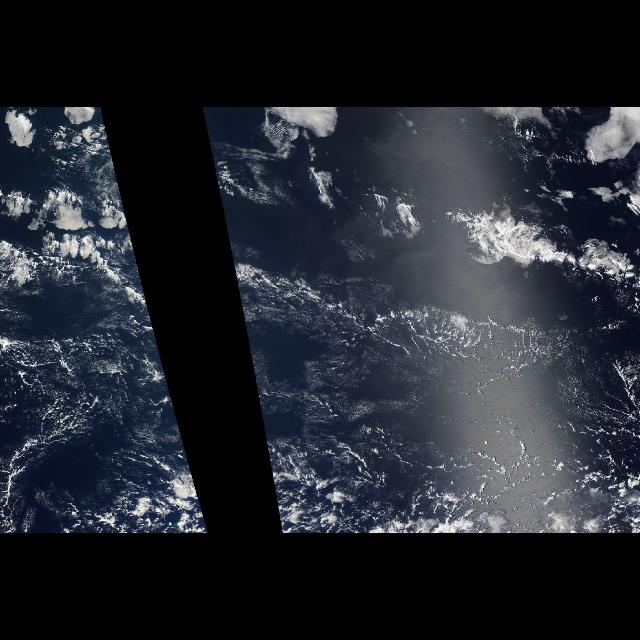Fish: (428, 194, 634, 294)
Gravel: (0, 315, 156, 483)
Sugar: (248, 250, 636, 468)
